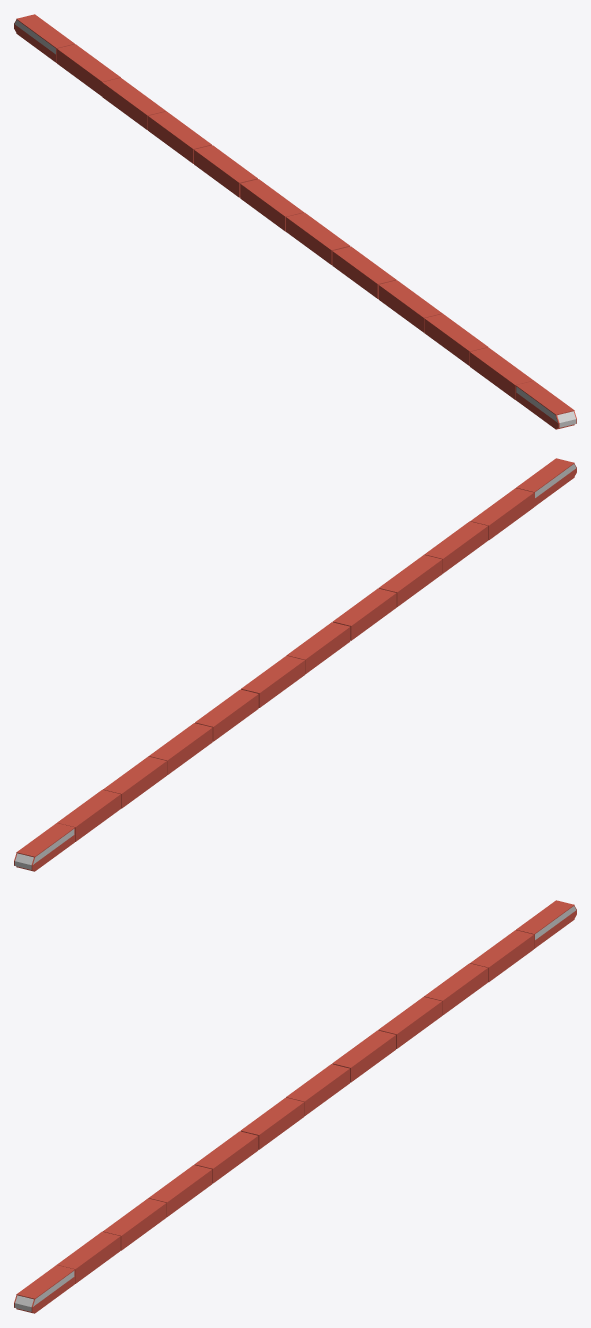
Rendered from train_a.fbx.
3 renders of one model, top to bottom at view 1: azimuth 30°, elevation 25°; view 2: azimuth 150°, elevation 25°; view 3: azimuth 330°, elevation 25°, orthographic.
Parts seen in each view (by area): view 1: Cube; view 2: Cube; view 3: Cube.
Part boxes in pixels (bbox=[...]): Cube: bbox=[14, 14, 576, 429]; Cube: bbox=[14, 458, 576, 871]; Cube: bbox=[14, 900, 576, 1313].
Bounding box in the file's own units: 489 × 356 × 23407.
